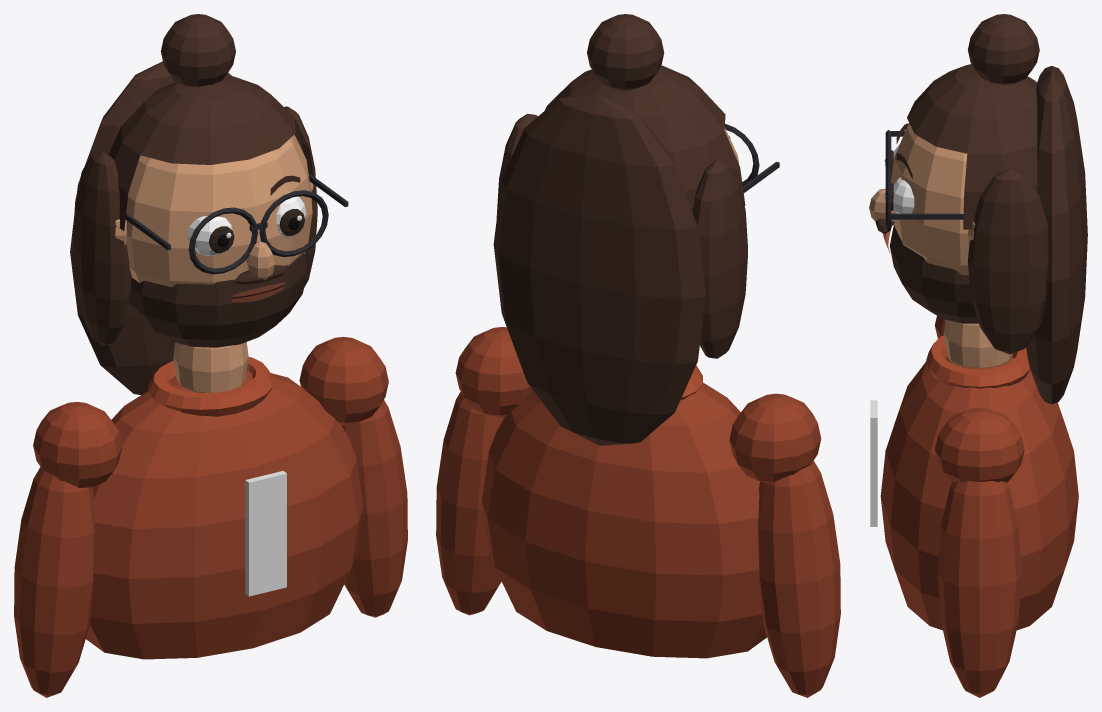
File: portrait_team.glb
3 views of the same model, side by side, from view 1: azimuth 30°, elevation 25°; view 2: azimuth 150°, elevation 25°; view 3: azimuth 270°, elevation 25° (orthographic). The views are drawn at different scales.
Visible parts, largest first — view 1: Torso_team, Skull_team, Arm-1_team, HairCap_team, Arm1_team, Beard_team, HairSide-1_team, HairBack_team, Shoulder-1_team, Shoulder1_team, Tee_team, Bun_team (+7 smaller); view 2: Torso_team, HairBack_team, Arm-1_team, Arm1_team, HairCap_team, HairSide-1_team, Shoulder-1_team, Shoulder1_team, Bun_team, HairSide1_team; view 3: Torso_team, Arm1_team, HairBack_team, HairSide1_team, HairCap_team, Skull_team, Shoulder1_team, Beard_team, Bun_team, Collar_team, Neck_team, Tee_team (+4 smaller).
Boxes of the visible parts, x1=… form: Torso_team: x1=86, y1=370, x2=363, y2=659; Skull_team: x1=126, y1=134, x2=312, y2=287; Arm-1_team: x1=14, y1=467, x2=94, y2=697; HairCap_team: x1=108, y1=74, x2=313, y2=230; Arm1_team: x1=341, y1=400, x2=407, y2=617; Beard_team: x1=128, y1=252, x2=307, y2=347; HairSide-1_team: x1=73, y1=151, x2=131, y2=344; HairBack_team: x1=70, y1=61, x2=231, y2=394; Shoulder-1_team: x1=33, y1=402, x2=122, y2=488; Shoulder1_team: x1=299, y1=336, x2=388, y2=425; Tee_team: x1=245, y1=471, x2=286, y2=596; Bun_team: x1=160, y1=14, x2=235, y2=86; Torso_team: x1=482, y1=382, x2=766, y2=658; HairBack_team: x1=493, y1=95, x2=705, y2=445; Arm-1_team: x1=757, y1=460, x2=840, y2=697; Arm1_team: x1=436, y1=392, x2=504, y2=615; HairCap_team: x1=545, y1=65, x2=745, y2=211; HairSide-1_team: x1=692, y1=160, x2=747, y2=358; Shoulder-1_team: x1=729, y1=393, x2=821, y2=482; Shoulder1_team: x1=455, y1=327, x2=532, y2=417; Bun_team: x1=587, y1=14, x2=664, y2=90; HairSide1_team: x1=496, y1=113, x2=537, y2=218; Torso_team: x1=880, y1=355, x2=1078, y2=630; Arm1_team: x1=937, y1=481, x2=1021, y2=697; HairBack_team: x1=1026, y1=66, x2=1087, y2=404; HairSide1_team: x1=967, y1=169, x2=1048, y2=354; HairCap_team: x1=907, y1=64, x2=1037, y2=229; Skull_team: x1=891, y1=123, x2=969, y2=274; Shoulder1_team: x1=934, y1=407, x2=1024, y2=482; Beard_team: x1=889, y1=225, x2=978, y2=323; Bun_team: x1=968, y1=14, x2=1039, y2=84; Collar_team: x1=926, y1=335, x2=1030, y2=388; Neck_team: x1=943, y1=319, x2=1012, y2=368; Tee_team: x1=870, y1=400, x2=877, y2=526.
Size of what is drawn, in the model's own units: 0.7032 by 1.11 by 0.3643.
